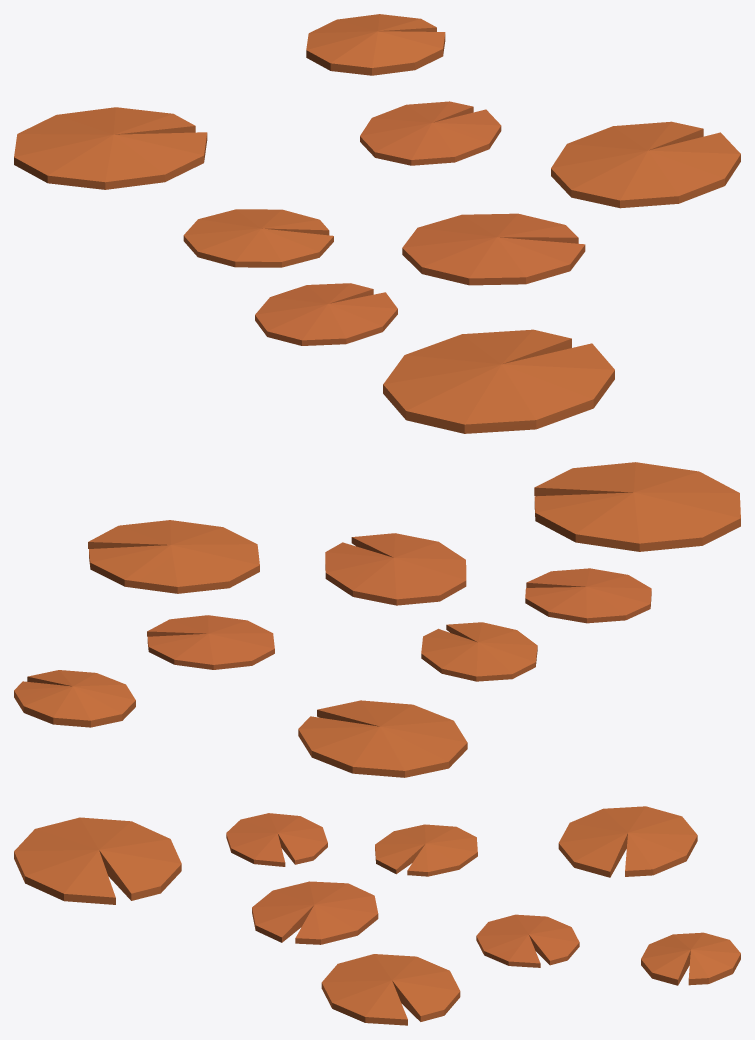
The model's file is lily_pads.glb.
The picture shows the model from 3 angles, top to bottom: view 1: azimuth 30°, elevation 25°; view 2: azimuth 150°, elevation 25°; view 3: azimuth 270°, elevation 25°; orthographic projection. The views are drawn at different scales.
Visible parts, largest first — view 1: Water Lily Multi_1_A; view 2: Water Lily Multi_1_A; view 3: Water Lily Multi_1_A.
Part boxes in pixels (box(x1,y1,x2,y2)): Water Lily Multi_1_A: box(14, 14, 740, 433); Water Lily Multi_1_A: box(14, 462, 740, 777); Water Lily Multi_1_A: box(14, 806, 740, 1025).
Size of the model in its own units: 0.84 by 0.03 by 1.21.
1 material, 1 textured.
